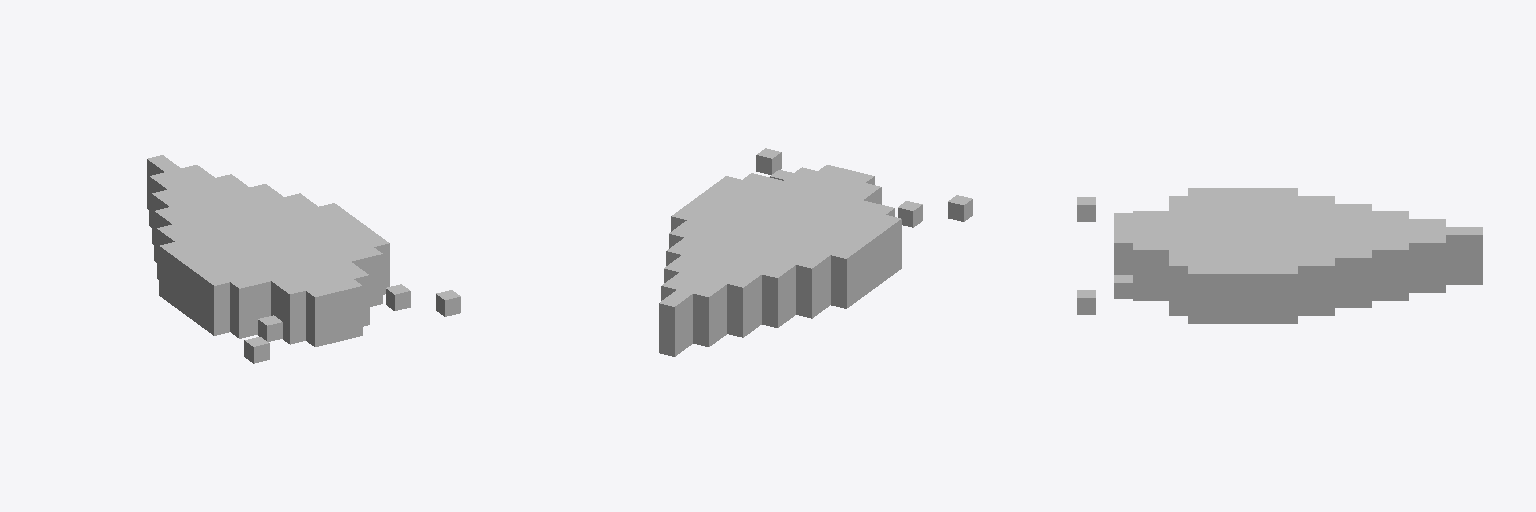
File: Nave.obj
The picture shows the model from 3 angles: view 1: azimuth 30°, elevation 25°; view 2: azimuth 150°, elevation 25°; view 3: azimuth 270°, elevation 25°; orthographic projection.
Visible parts, largest first — view 1: object 1; view 2: object 1; view 3: object 1.
Part boxes in pixels (x1,y1,x2,y2): object 1: (147,155,460,363); object 1: (659,148,972,356); object 1: (1077,188,1482,323).
Size of the model in its own units: 1.3 by 0.3 by 2.2.